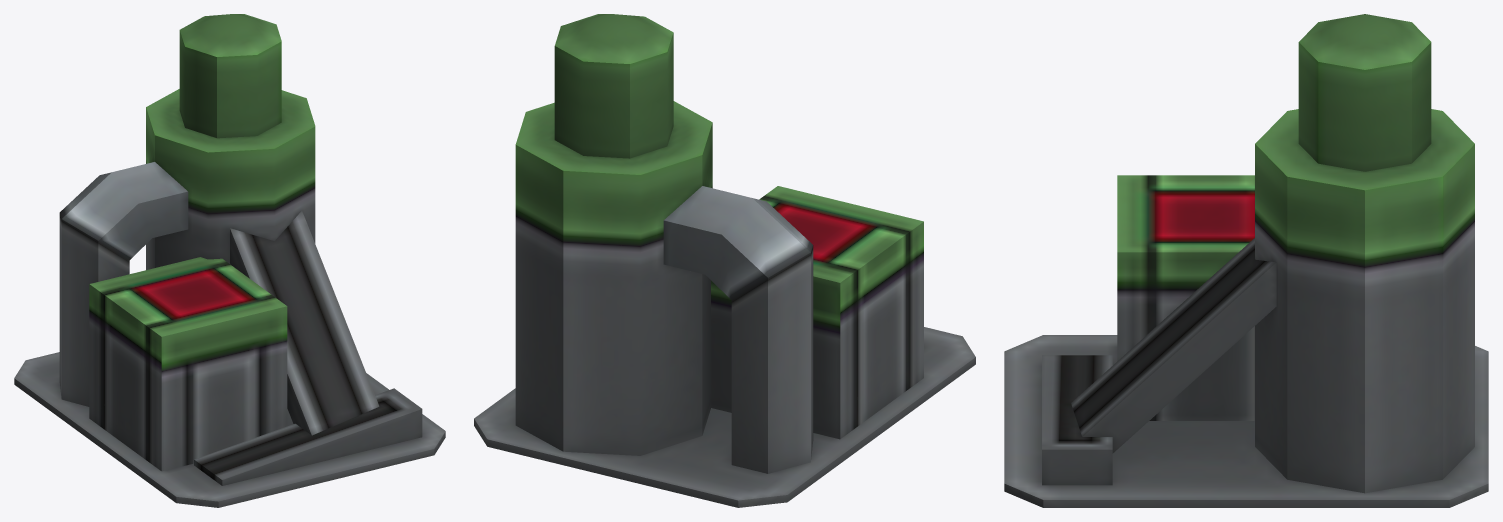
The model's file is russia_house_5.FBX.
3 views of the same model, side by side, from view 1: azimuth 30°, elevation 25°; view 2: azimuth 150°, elevation 25°; view 3: azimuth 270°, elevation 25° (orthographic). The views are drawn at different scales.
Parts seen in each view (by area): view 1: russia_house_5; view 2: russia_house_5; view 3: russia_house_5.
Boxes of the visible parts, left/top/right/bottom form: russia_house_5: left=14, top=14, right=445, bottom=507; russia_house_5: left=474, top=14, right=975, bottom=507; russia_house_5: left=1004, top=14, right=1488, bottom=507.
Size of the model in its own units: 819 by 1051 by 1016.
